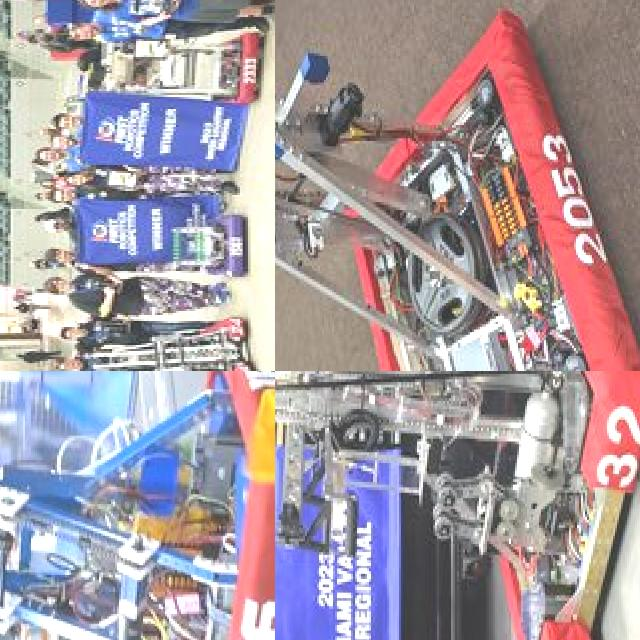FRC-Robots: (275, 0, 640, 371), (275, 371, 640, 640), (0, 371, 275, 640), (94, 18, 275, 94), (71, 303, 271, 371), (154, 202, 270, 278)
